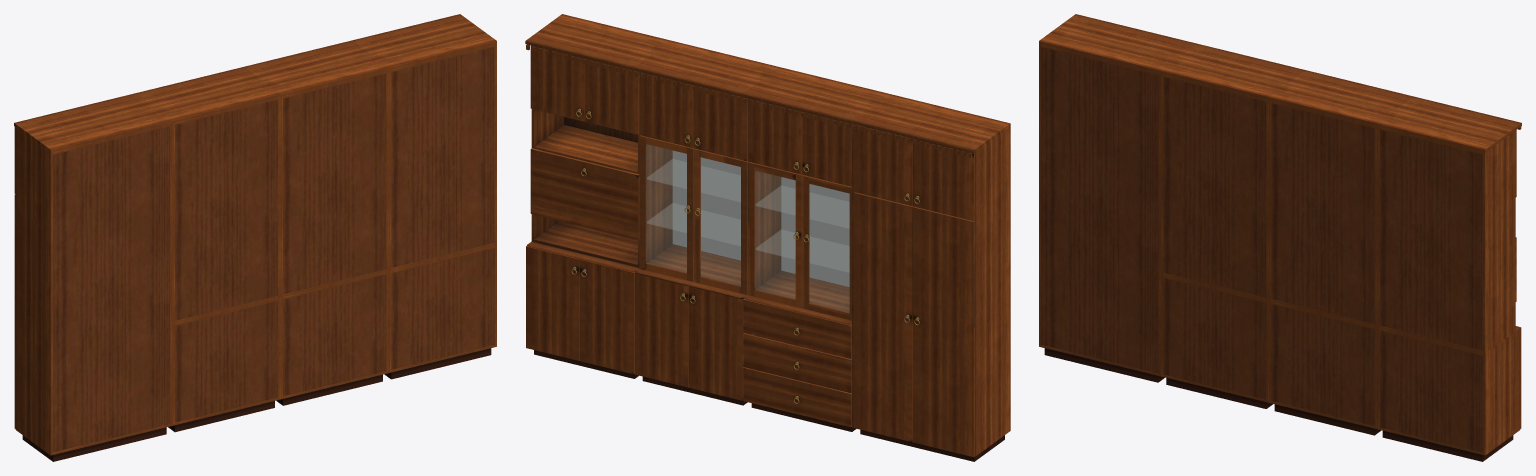
The model's file is stenka_amber_web.glb.
3 renders of one model, left to right at view 1: azimuth 30°, elevation 25°; view 2: azimuth 150°, elevation 25°; view 3: azimuth 330°, elevation 25°, orthographic.
Parts seen in each view (by area): view 1: StenkaAmber_Body; view 2: StenkaAmber_Body, Door_4L0_R_Mesh, Door_4L0_L_Mesh, Flap_1U1_Mesh, Door_2L0_R_Mesh, Door_1L0_R_Mesh, Door_2L0_L_Mesh, Door_1L0_L_Mesh, Mirror_3U0, Mirror_2U0, Glass_Door_3U0_R, Glass_Door_2U0_R (+21 smaller); view 3: StenkaAmber_Body.
Part boxes in pixels (left/top/right/bottom): StenkaAmber_Body: left=14, top=14, right=496, bottom=461; StenkaAmber_Body: left=525, top=14, right=1010, bottom=461; Door_4L0_R_Mesh: left=913, top=206, right=974, bottom=457; Door_4L0_L_Mesh: left=852, top=192, right=913, bottom=442; Flap_1U1_Mesh: left=530, top=148, right=639, bottom=239; Door_2L0_R_Mesh: left=688, top=286, right=743, bottom=400; Door_1L0_R_Mesh: left=580, top=259, right=635, bottom=374; Door_2L0_L_Mesh: left=634, top=272, right=688, bottom=387; Door_1L0_L_Mesh: left=526, top=245, right=579, bottom=360; Mirror_3U0: left=781, top=177, right=849, bottom=286; Mirror_2U0: left=672, top=150, right=740, bottom=260; Glass_Door_3U0_R: left=809, top=184, right=849, bottom=312; Glass_Door_2U0_R: left=700, top=157, right=740, bottom=285; StenkaAmber_Body: left=1039, top=14, right=1521, bottom=461.
Size of the model in its own units: 3.3 by 2.22 by 0.484.
4 materials, 2 textured.
